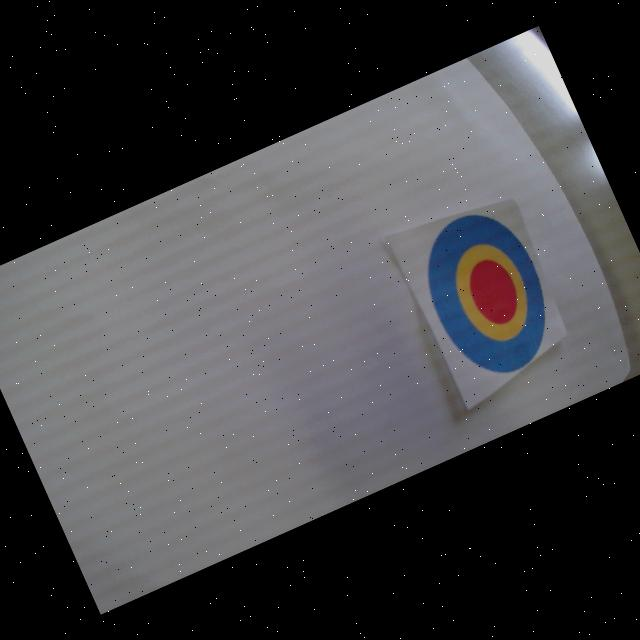COGNITIVE: (404, 197, 570, 390)
